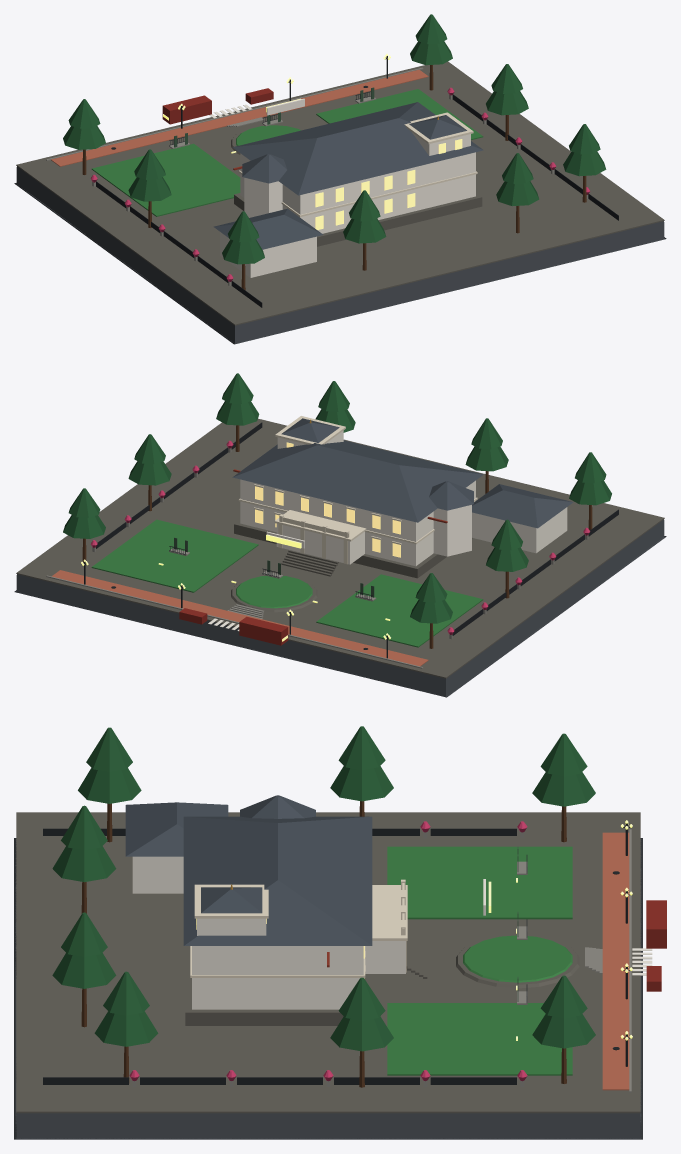
Rendered from lm_35_dinh_tinh_truong.glb.
3 views of the same model, one above another, from view 1: azimuth 30°, elevation 25°; view 2: azimuth 150°, elevation 25°; view 3: azimuth 270°, elevation 25° (orthographic). The views are drawn at different scales.
Visible parts, largest first — view 1: Foundation_Plinth_Trim, Foundation_Skirt, GovernorHill_Century_Pines, GovernorMansion_Main_Slate_Roof, GovernorMansion_Ivory_Walls, GovernorHill_Park_Lawns, Phase2_Interlocking_Brick_Sidewalk, Phase2_WroughtIron_Balconies_Railings_Manholes, GovernorMansion_Stone_Basement_And_Steps, GovernorMansion_Guard_Pavilion_Roof, GovernorMansion_Slate_Features, Phase2_Vintage_Vehicles_Train_SwanBoat (+5 smaller); view 2: Foundation_Plinth_Trim, GovernorHill_Park_Lawns, Foundation_Skirt, GovernorHill_Century_Pines, GovernorMansion_Main_Slate_Roof, GovernorMansion_Ivory_Walls, GovernorMansion_Stone_Basement_And_Steps, Phase2_Interlocking_Brick_Sidewalk, GovernorMansion_Cornices_And_Balustrades, GovernorMansion_Guard_Pavilion_Roof, Phase2_WroughtIron_Balconies_Railings_Manholes, GovernorMansion_Slate_Features (+4 smaller); view 3: Foundation_Plinth_Trim, GovernorHill_Park_Lawns, GovernorHill_Century_Pines, GovernorMansion_Main_Slate_Roof, Foundation_Skirt, GovernorMansion_Ivory_Walls, Phase2_Interlocking_Brick_Sidewalk, Phase2_WroughtIron_Balconies_Railings_Manholes, GovernorMansion_Stone_Basement_And_Steps, GovernorMansion_Cornices_And_Balustrades, GovernorMansion_Guard_Pavilion_Roof, GovernorMansion_Slate_Features (+3 smaller).
Part boxes in pixels (x1,y1,x2,y2): Foundation_Plinth_Trim: (16,61,664,325); Foundation_Skirt: (14,166,666,344); GovernorHill_Century_Pines: (63,14,606,264); GovernorMansion_Main_Slate_Roof: (233,102,483,195); GovernorMansion_Ivory_Walls: (220,132,475,277); GovernorHill_Park_Lawns: (91,89,483,216); Phase2_Interlocking_Brick_Sidewalk: (51,69,428,166); Phase2_WroughtIron_Balconies_Railings_Manholes: (96,56,618,307); GovernorMansion_Stone_Basement_And_Steps: (231,124,482,246); GovernorMansion_Guard_Pavilion_Roof: (213,208,323,249); GovernorMansion_Slate_Features: (242,115,466,183); Phase2_Vintage_Vehicles_Train_SwanBoat: (162,88,273,124); Foundation_Plinth_Trim: (16,418,664,678); GovernorHill_Park_Lawns: (91,519,483,647); Foundation_Skirt: (14,519,666,697); GovernorHill_Century_Pines: (63,373,611,623); GovernorMansion_Main_Slate_Roof: (232,440,483,522); GovernorMansion_Ivory_Walls: (240,430,567,566); GovernorMansion_Stone_Basement_And_Steps: (231,520,472,612); Phase2_Interlocking_Brick_Sidewalk: (52,570,428,666); GovernorMansion_Cornices_And_Balustrades: (238,416,477,564); GovernorMansion_Guard_Pavilion_Roof: (472,484,573,528); Phase2_WroughtIron_Balconies_Railings_Manholes: (84,422,618,658); GovernorMansion_Slate_Features: (281,418,473,510); Foundation_Plinth_Trim: (16,812,640,1113); GovernorHill_Park_Lawns: (387,846,572,1075); GovernorHill_Century_Pines: (52,726,595,1051); GovernorMansion_Main_Slate_Roof: (183,816,372,945); Foundation_Skirt: (14,838,642,1139); GovernorMansion_Ivory_Walls: (132,856,405,1009); Phase2_Interlocking_Brick_Sidewalk: (602,832,629,1090); Phase2_WroughtIron_Balconies_Railings_Manholes: (43,823,630,1084); GovernorMansion_Stone_Basement_And_Steps: (185,933,579,1025); GovernorMansion_Cornices_And_Balustrades: (190,879,407,977); GovernorMansion_Guard_Pavilion_Roof: (125,802,228,856); GovernorMansion_Slate_Features: (201,795,315,913).
Size of the model in its own units: 84.83 by 19.5 by 77.59.
